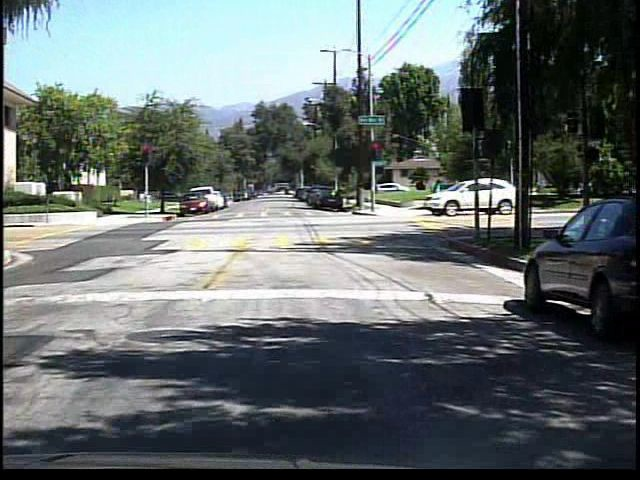person: (428, 175, 447, 202)
